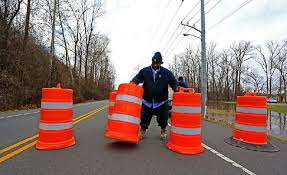barrel: (37, 87, 75, 146), (106, 82, 144, 140), (167, 92, 205, 150), (233, 90, 270, 145)
